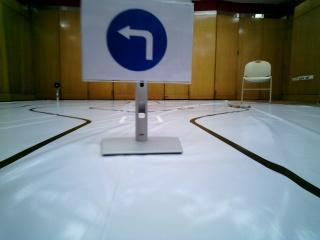left: (89, 4, 180, 77)
